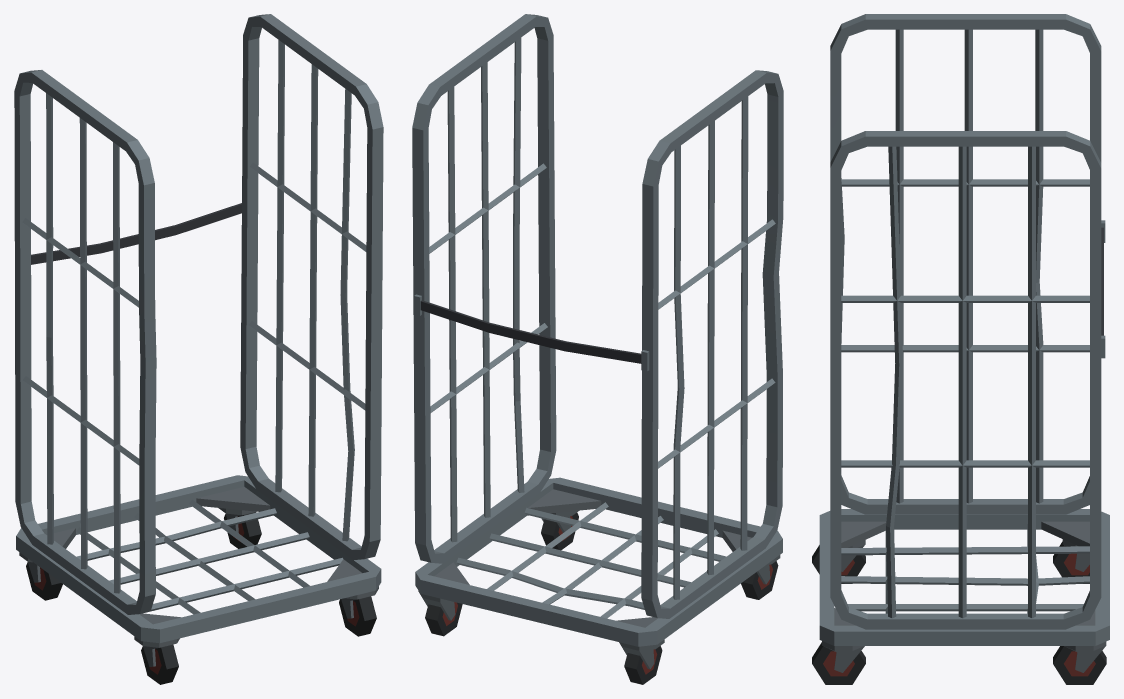
The model's file is SM_Prop_Warehouse_Cage_Trolley_01.obj.
The picture shows the model from 3 angles, left to right: view 1: azimuth 30°, elevation 25°; view 2: azimuth 150°, elevation 25°; view 3: azimuth 270°, elevation 25°; orthographic projection. The views are drawn at different scales.
Visible parts, largest first — view 1: SM_Prop_Warehouse_Cage_Trolley_01_0; view 2: SM_Prop_Warehouse_Cage_Trolley_01_0; view 3: SM_Prop_Warehouse_Cage_Trolley_01_0.
Boxes of the visible parts, x1,y1,x2,y2 form: SM_Prop_Warehouse_Cage_Trolley_01_0: [14, 14, 383, 684]; SM_Prop_Warehouse_Cage_Trolley_01_0: [412, 14, 783, 684]; SM_Prop_Warehouse_Cage_Trolley_01_0: [812, 14, 1109, 684].
Bounding box in the file's own units: 1 × 2.11 × 1.03.
1 material, 1 textured.
